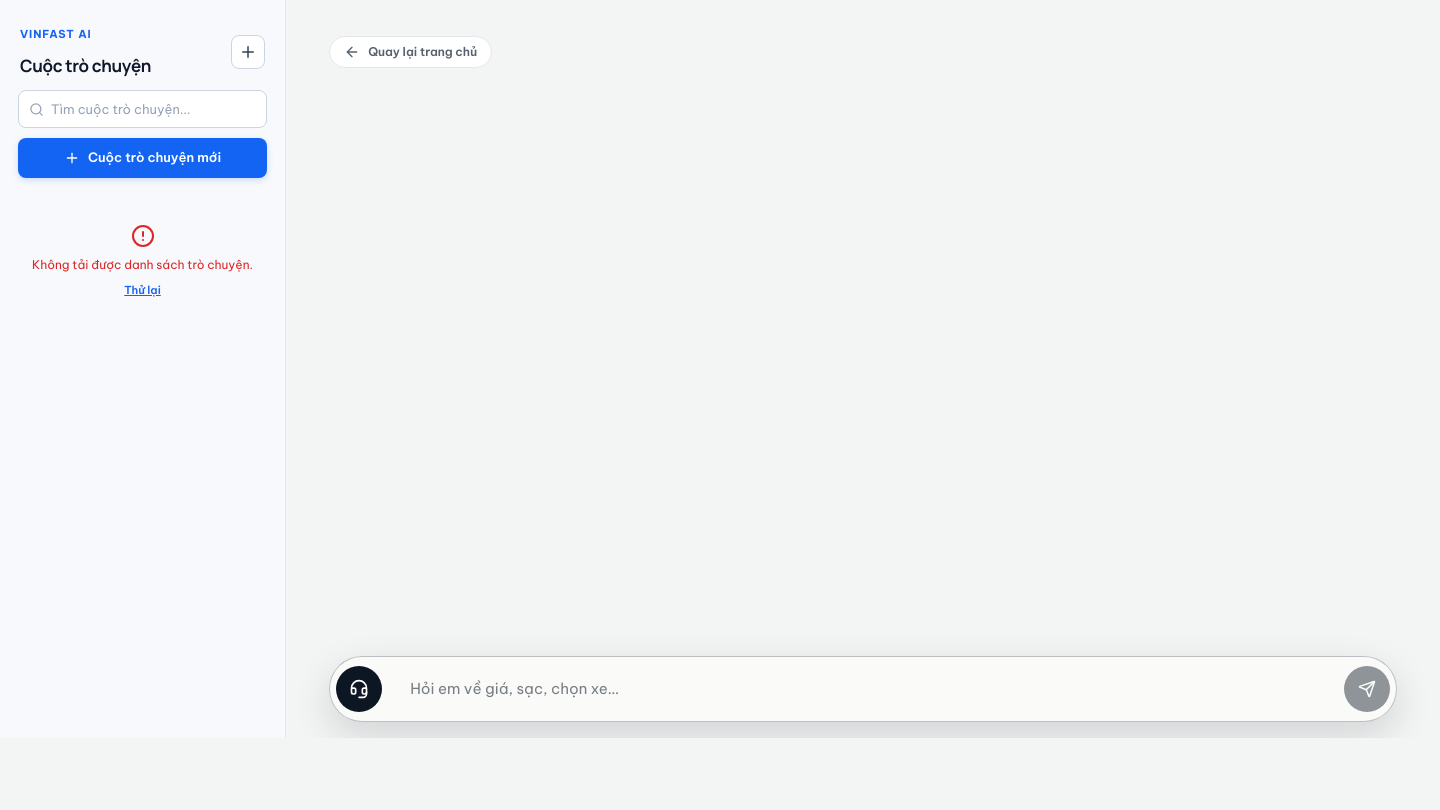
Test: ConsultationFlow retry identity › reuses client turn and one bubble after ambiguous failure, then creates a new turn
The image size is (1440, 810).
Type "Tôi cần xe gia đình" into the field named "Tin nhắn gửi trợ lý" at [873, 689], box [410, 663, 1336, 715]
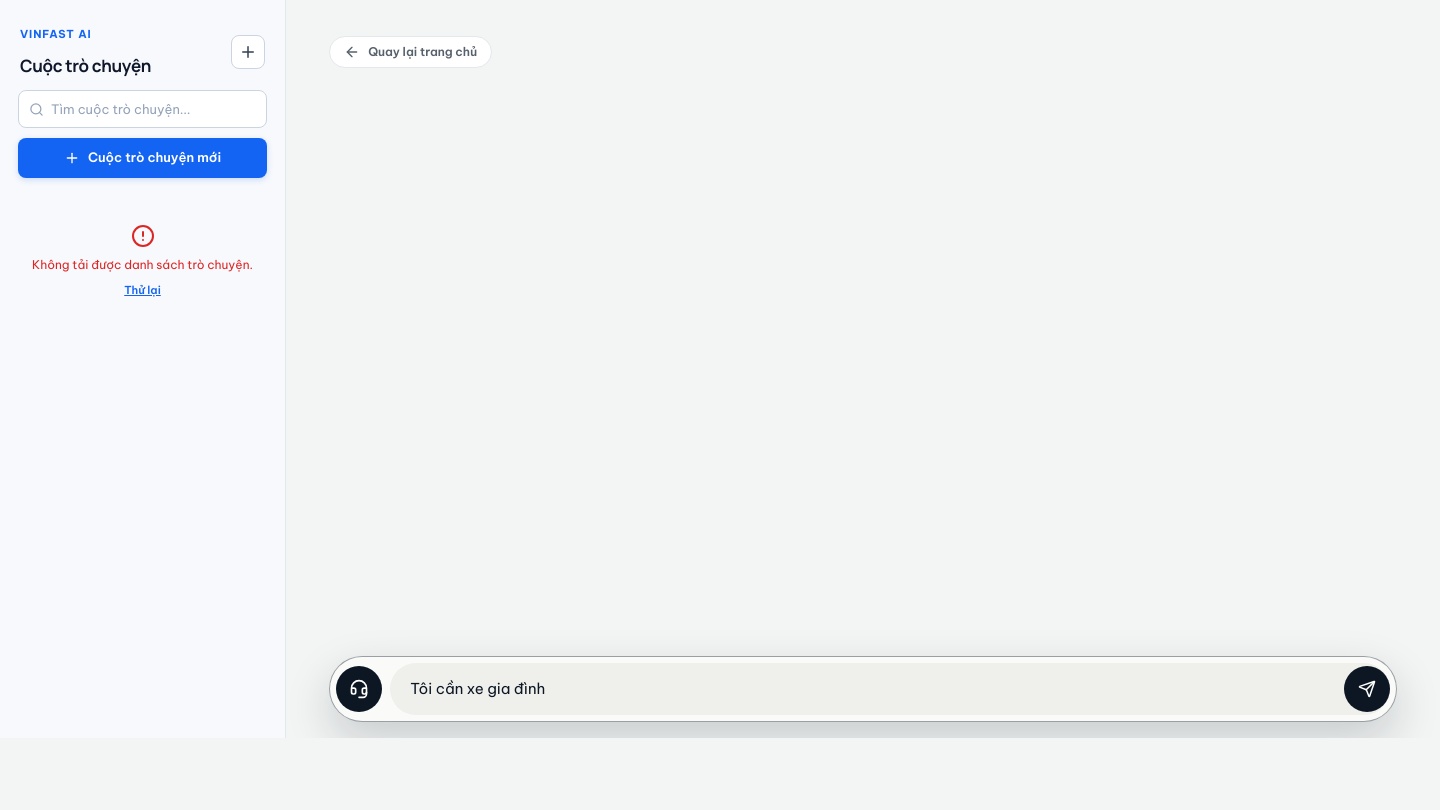
Click the button named "Gửi" at [1367, 689], box [1344, 666, 1390, 712]
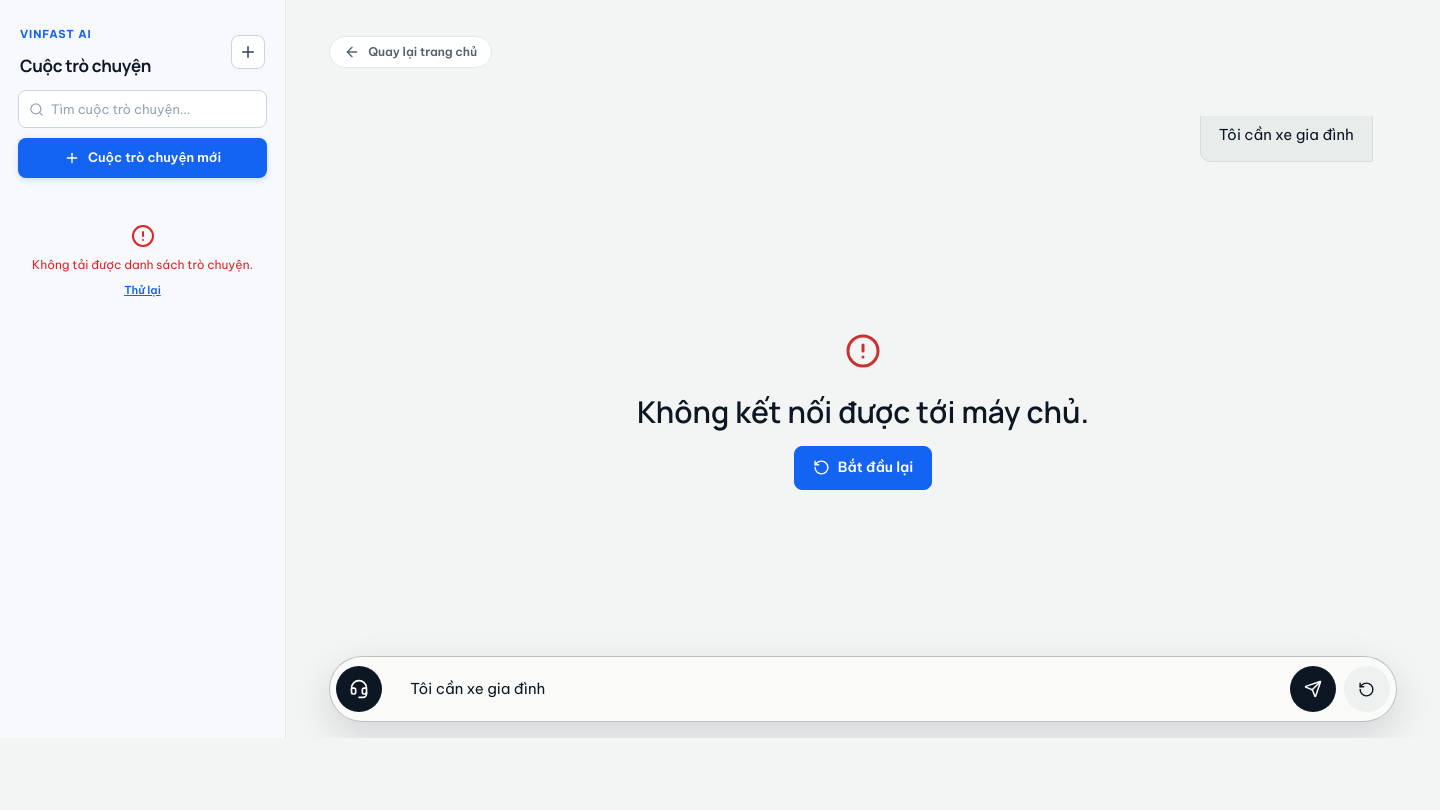
expect the heading "Không kết nối được tới máy chủ." is shown: met, box [637, 389, 1089, 434]
Click the button named "Gửi" at [1313, 689], box [1290, 666, 1336, 712]
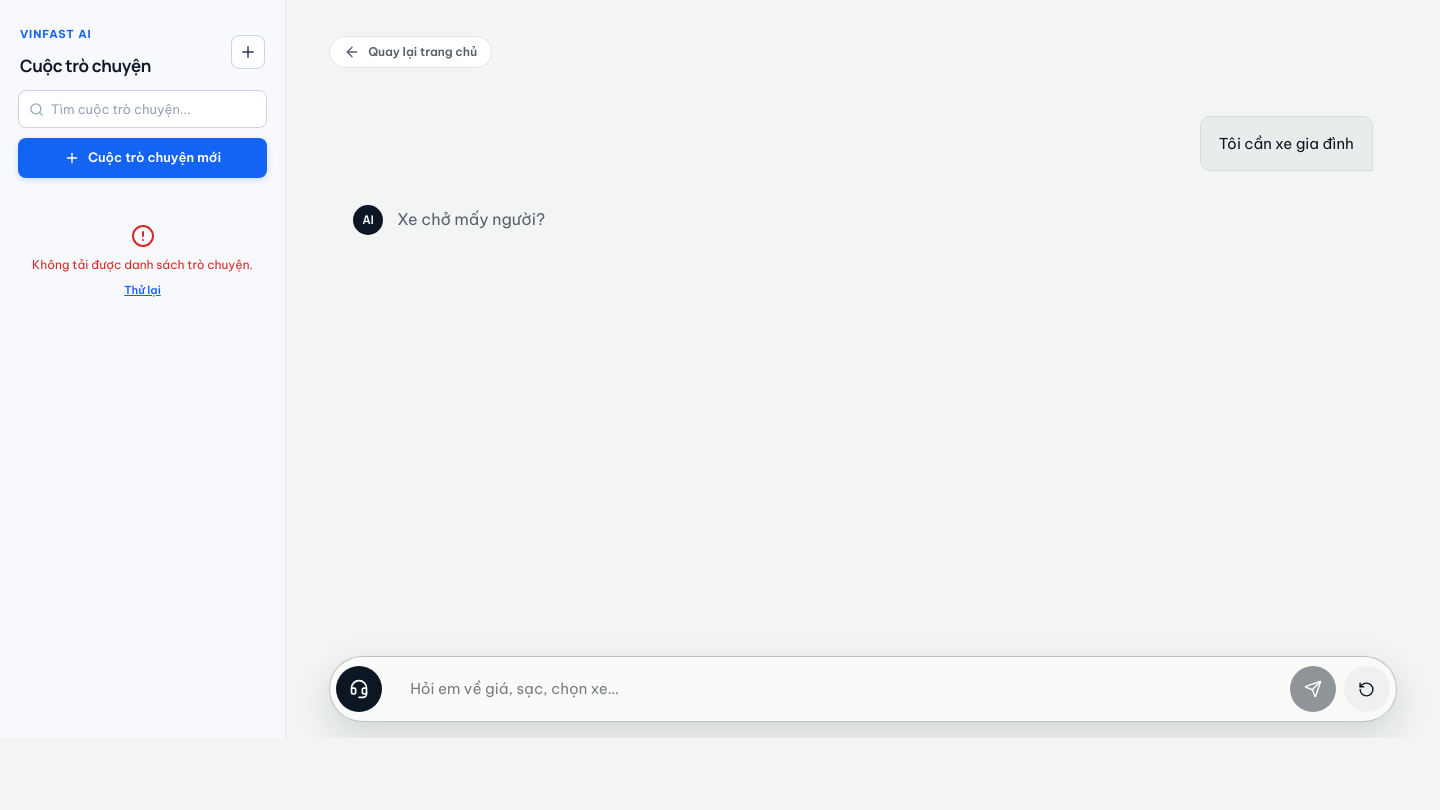
expect the text "Xe chở mấy người?" is shown: met, box [397, 209, 545, 229]
expect the text "Tôi cần xe gia đình" is shown once: met, box [1219, 134, 1354, 153]
Type "5 người" into the field named "Tin nhắn gửi trợ lý" at [846, 689], box [410, 663, 1282, 715]
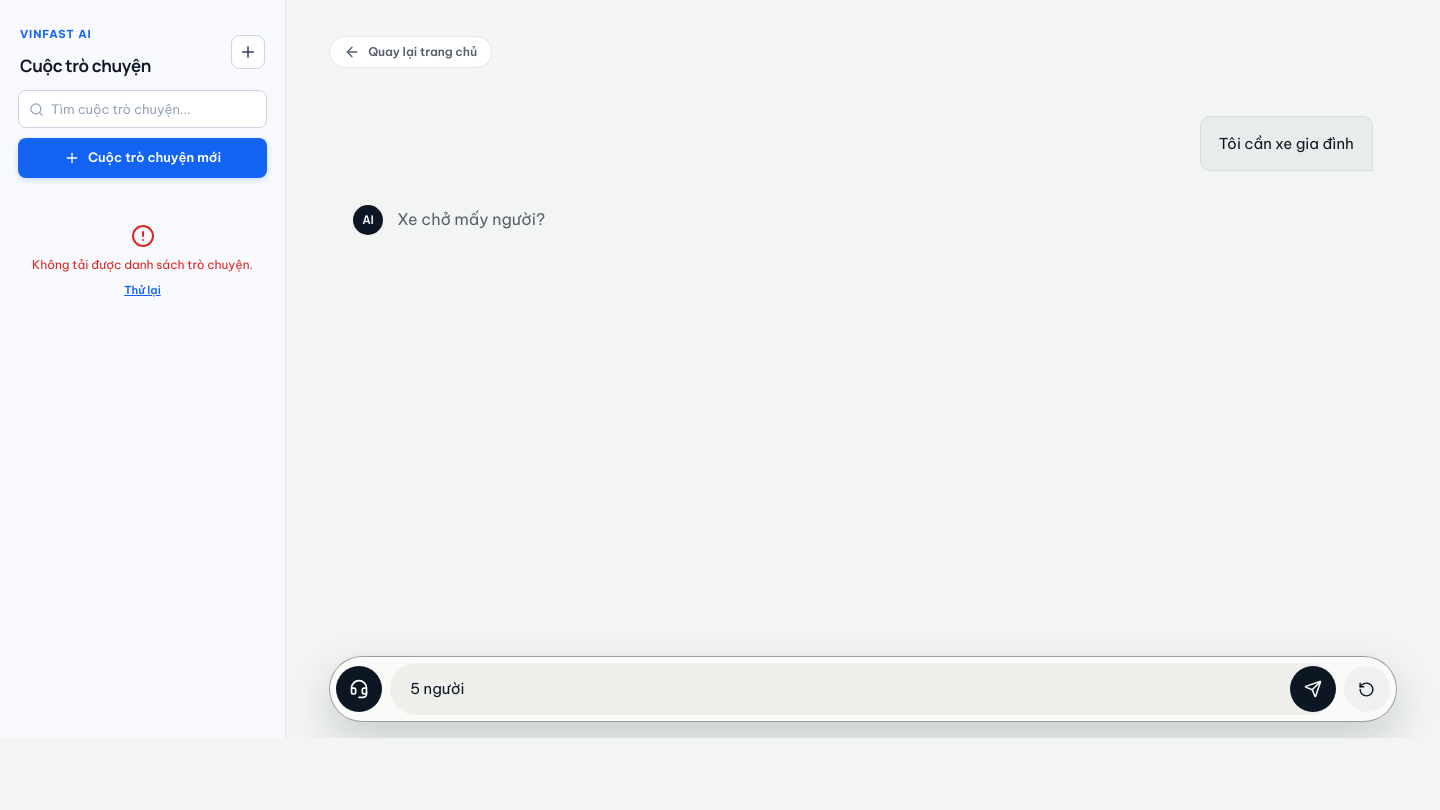
Click the button named "Gửi" at [1313, 689], box [1290, 666, 1336, 712]
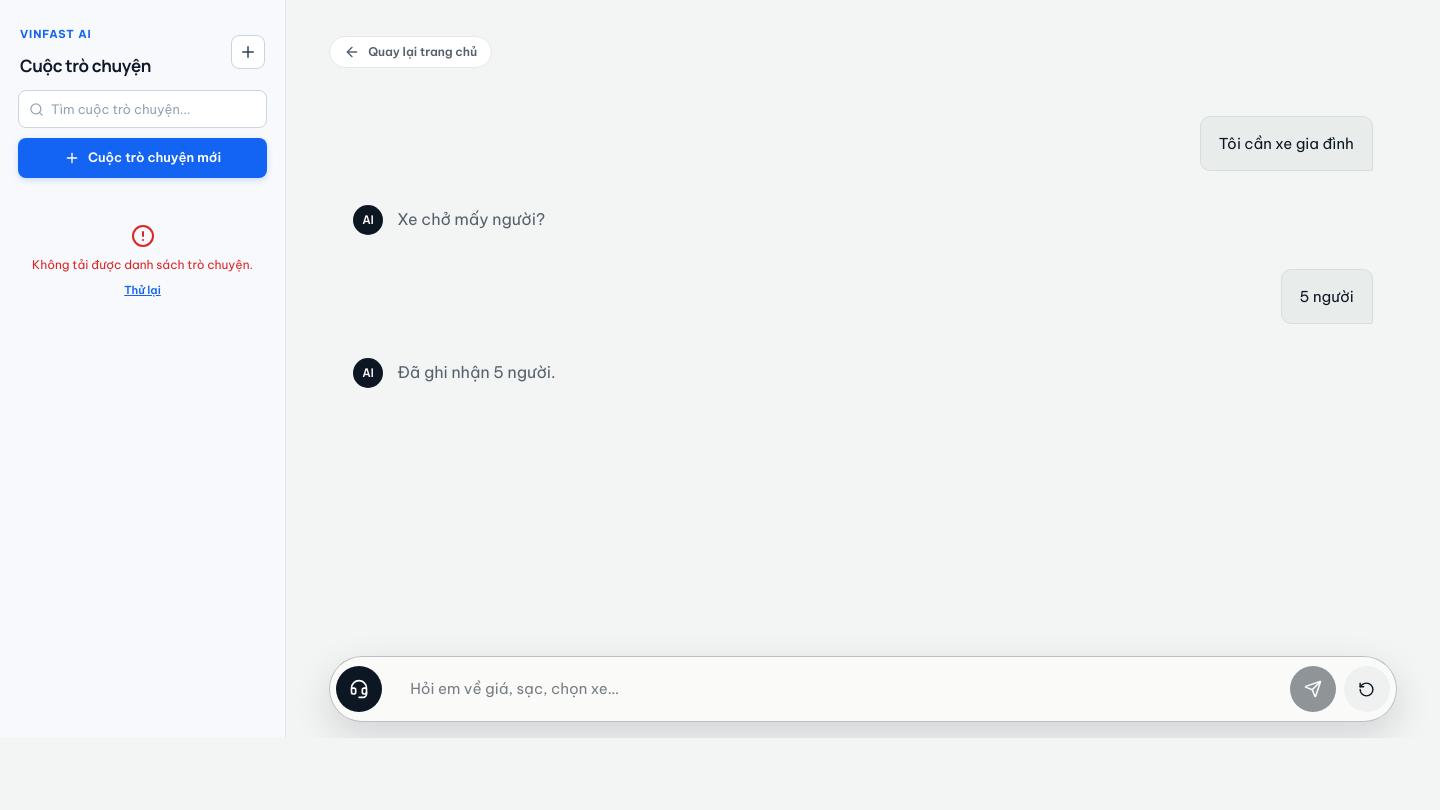
expect the text "Đã ghi nhận 5 người." is shown: met, box [397, 362, 556, 382]
